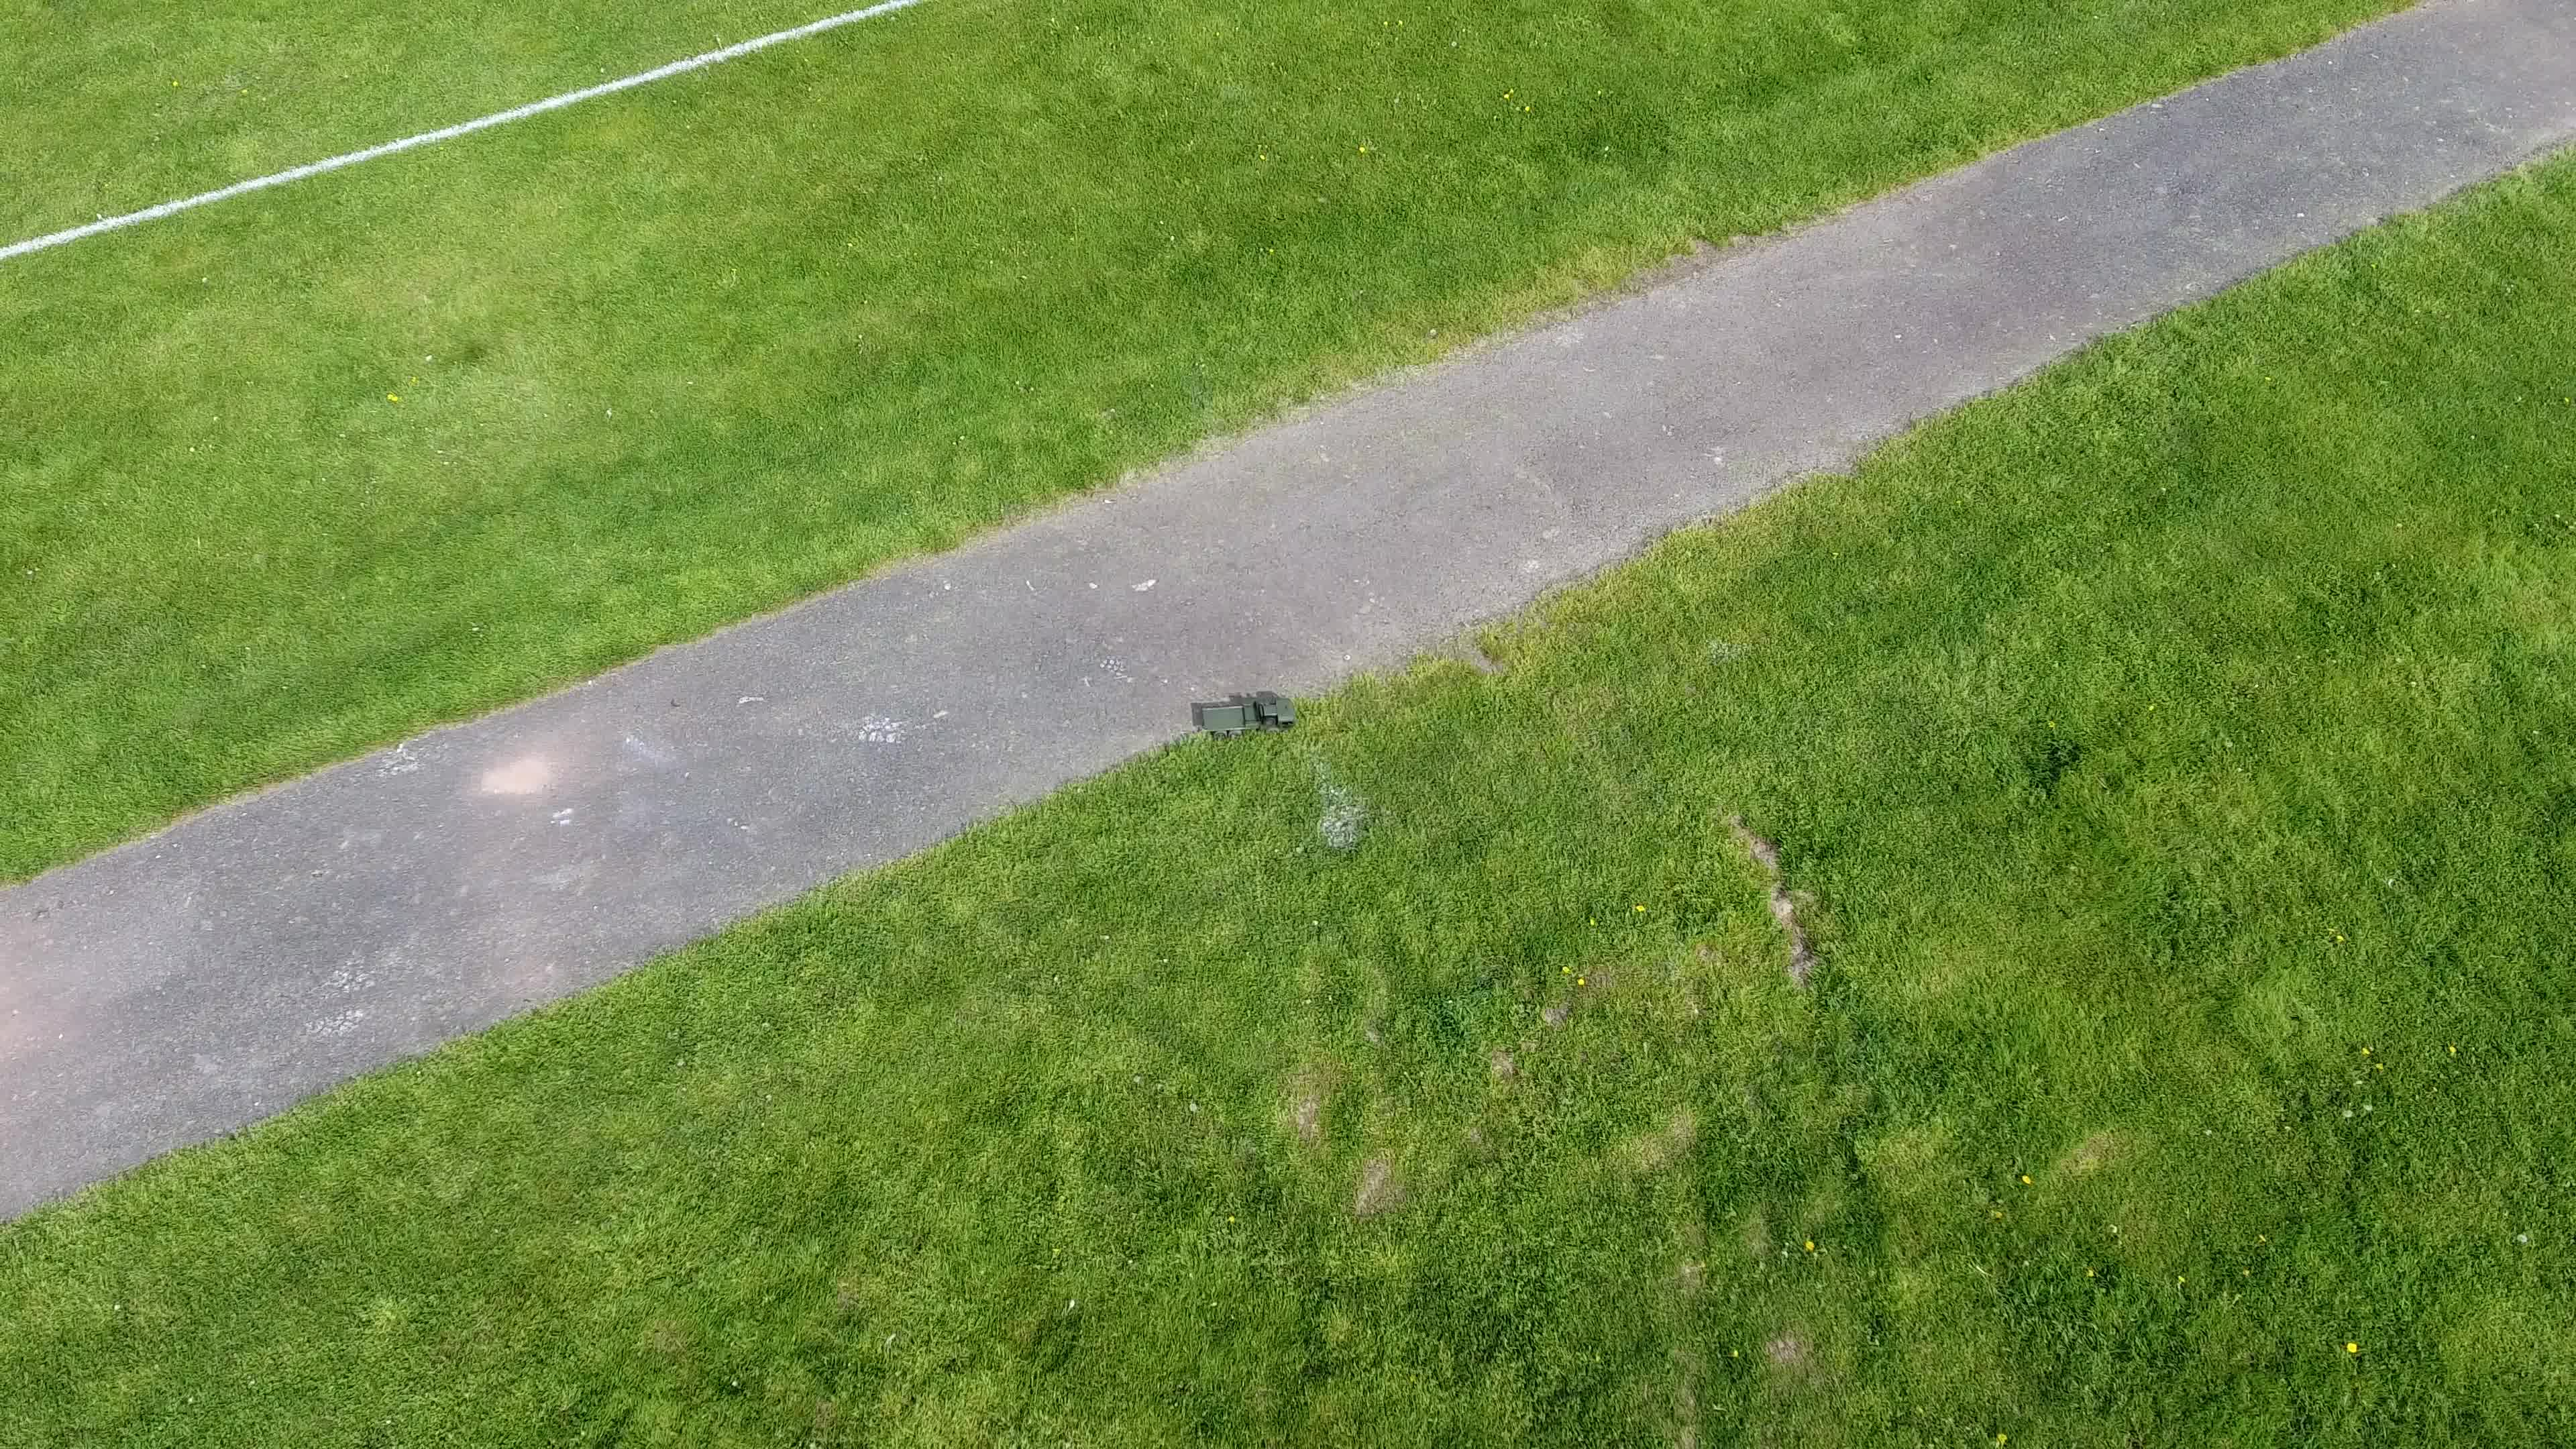transporter9: (1196, 692, 1302, 740)
